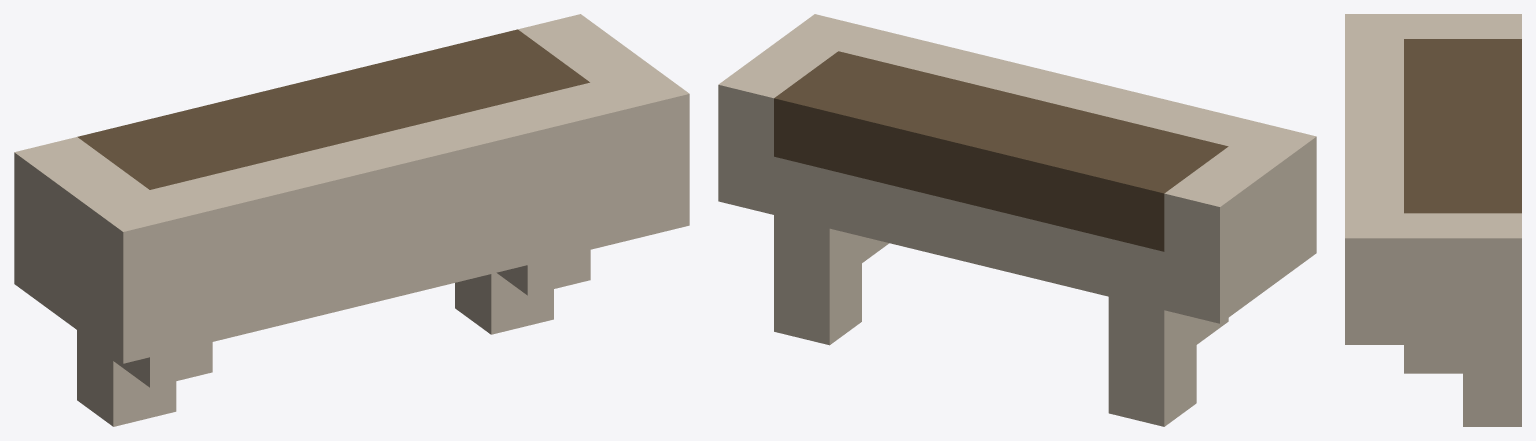
File: Vaso.gltf
3 views of the same model, side by side, from view 1: azimuth 30°, elevation 25°; view 2: azimuth 150°, elevation 25°; view 3: azimuth 270°, elevation 25° (orthographic). The views are drawn at different scales.
Visible parts, largest first — view 1: Balconcino; view 2: Balconcino; view 3: Balconcino.
Part boxes in pixels (x1,y1,x2,y2): Balconcino: (14, 14, 689, 426); Balconcino: (718, 14, 1316, 426); Balconcino: (1345, 14, 1521, 426).
Size of the model in its own units: 9 by 4 by 3.
1 material, 1 textured.
